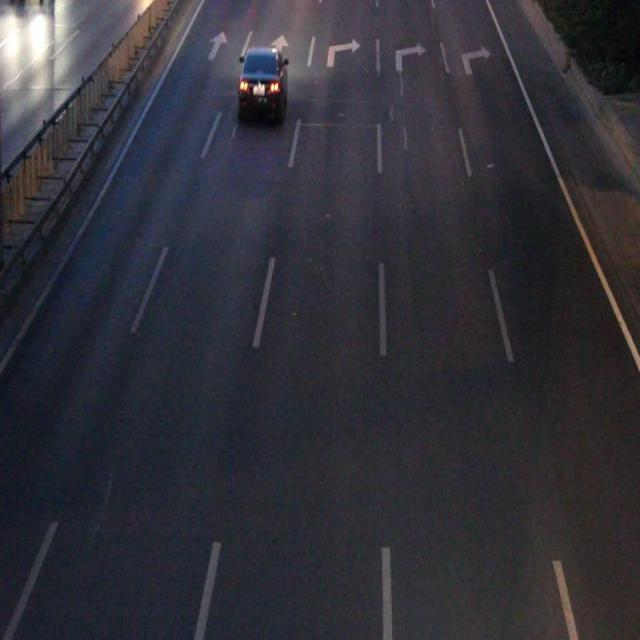car: (239, 49, 285, 111)
